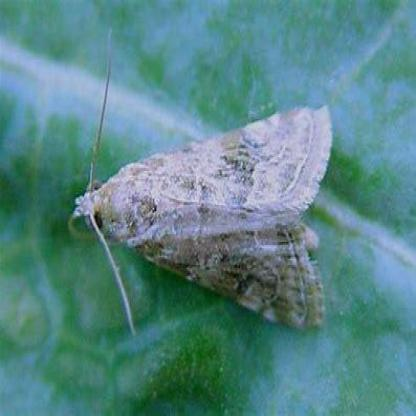Hellula undalis: (66, 25, 335, 340)
